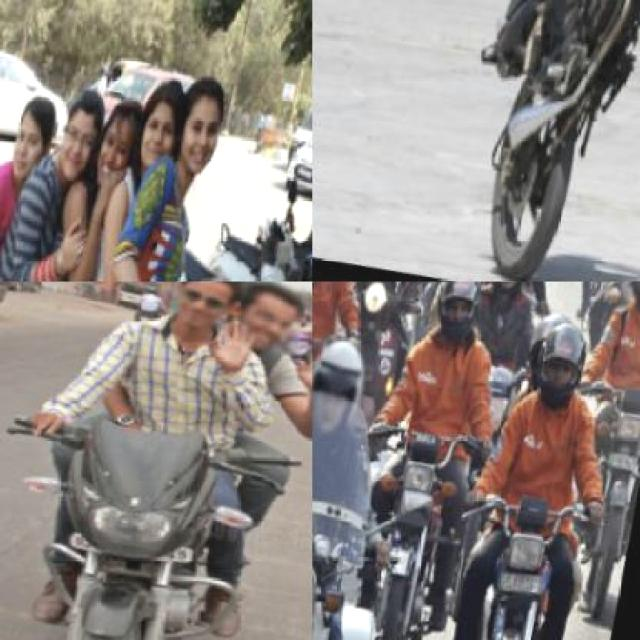With Helmet: (312, 331, 376, 452), (522, 318, 595, 422), (416, 281, 492, 357), (482, 282, 538, 306), (612, 282, 638, 329)
Without Helmet: (163, 64, 235, 188), (232, 282, 311, 364), (163, 282, 246, 340)
